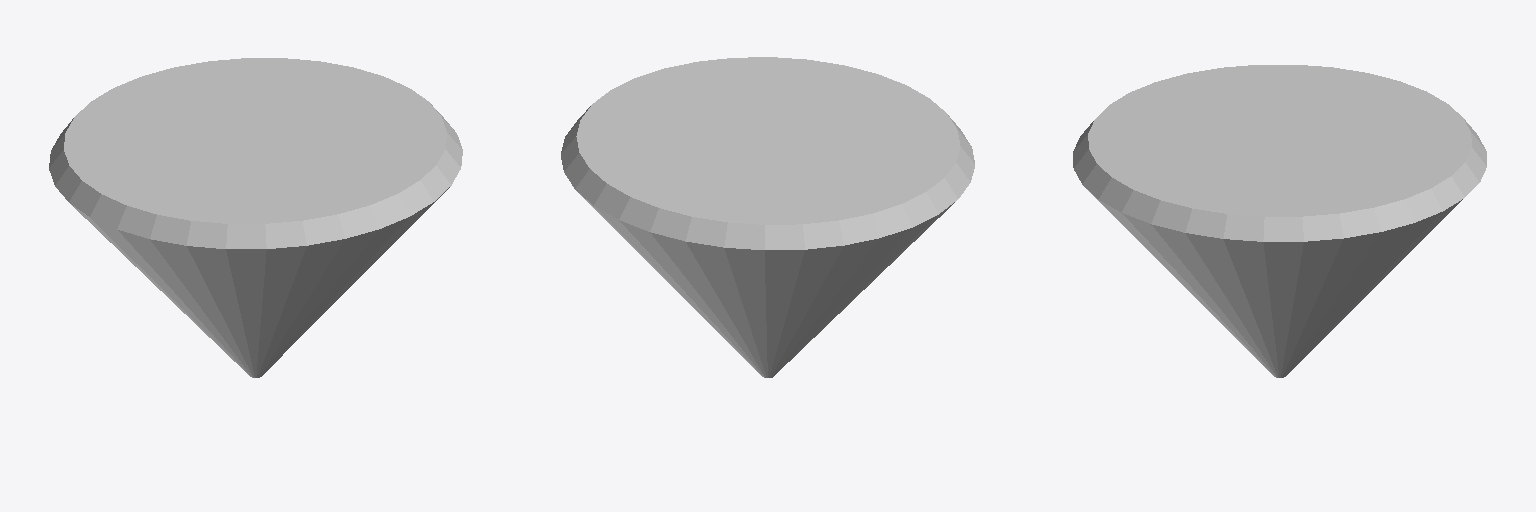
The model's file is Platform6.obj.
3 renders of one model, left to right at view 1: azimuth 30°, elevation 25°; view 2: azimuth 150°, elevation 25°; view 3: azimuth 270°, elevation 25°, orthographic.
Parts seen in each view (by area): view 1: Cylinder; view 2: Cylinder; view 3: Cylinder.
Part boxes in pixels (x1,y1,x2,y2): Cylinder: (49, 58, 462, 377); Cylinder: (561, 57, 974, 377); Cylinder: (1073, 65, 1486, 377).
Bounding box in the file's own units: 40.48 × 25.89 × 40.59.